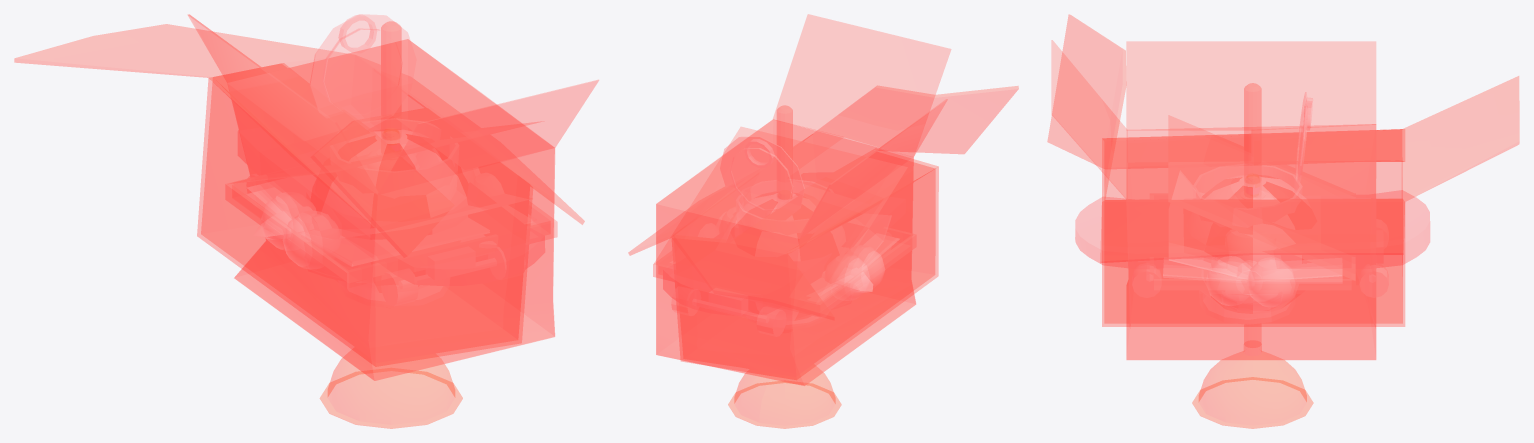
3 renders of one model, left to right at view 1: azimuth 30°, elevation 25°; view 2: azimuth 150°, elevation 25°; view 3: azimuth 270°, elevation 25°, orthographic. The views are drawn at different scales.
Parts seen in each view (by area): view 1: cardboard, cardboard2, toiletplunger, tincan, skateboard, pizzabox, bones, magazine; view 2: cardboard2, cardboard, pizzabox, toiletplunger, tincan, skateboard, bones, magazine; view 3: cardboard2, cardboard, pizzabox, toiletplunger, skateboard, bones, tincan, magazine, ball, shoes.
Boxes of the visible parts, x1=… form: cardboard: x1=14, y1=24, x2=584, y2=366; cardboard2: x1=188, y1=14, x2=598, y2=380; toiletplunger: x1=320, y1=21, x2=462, y2=428; tincan: x1=310, y1=14, x2=454, y2=301; skateboard: x1=238, y1=131, x2=544, y2=300; pizzabox: x1=225, y1=122, x2=557, y2=288; bones: x1=260, y1=193, x2=331, y2=268; magazine: x1=246, y1=185, x2=533, y2=265; cardboard2: x1=656, y1=14, x2=950, y2=385; cardboard: x1=628, y1=85, x2=1018, y2=379; pizzabox: x1=653, y1=127, x2=916, y2=316; toiletplunger: x1=728, y1=105, x2=841, y2=428; tincan: x1=720, y1=136, x2=821, y2=324; skateboard: x1=663, y1=264, x2=785, y2=336; bones: x1=833, y1=247, x2=884, y2=300; magazine: x1=817, y1=216, x2=898, y2=298; cardboard2: x1=1051, y1=40, x2=1376, y2=359; cardboard: x1=1047, y1=14, x2=1519, y2=326; pizzabox: x1=1150, y1=115, x2=1355, y2=293; toiletplunger: x1=1192, y1=83, x2=1313, y2=428; skateboard: x1=1075, y1=190, x2=1429, y2=297; bones: x1=1207, y1=256, x2=1295, y2=306; tincan: x1=1195, y1=92, x2=1312, y2=324; magazine: x1=1163, y1=199, x2=1342, y2=282; ball: x1=1230, y1=175, x2=1305, y2=300; shoes: x1=1222, y1=255, x2=1281, y2=310.
Size of the model in its own units: 0.8064 by 0.8775 by 1.15.
